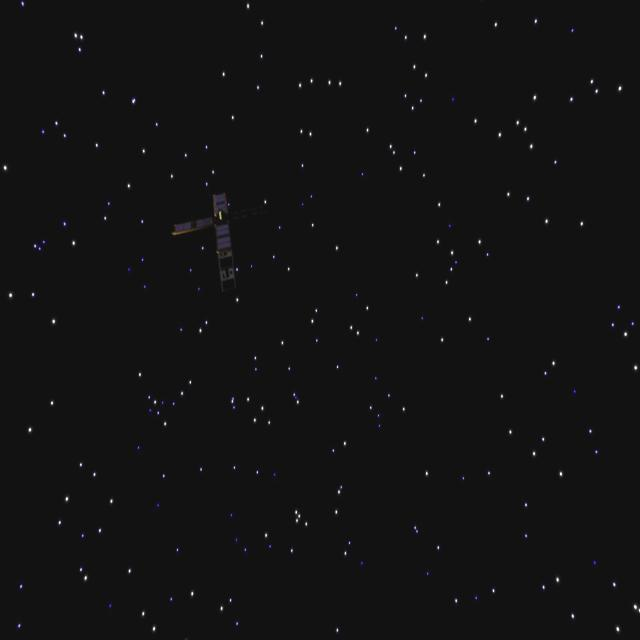satellite: (169, 182, 247, 292)
